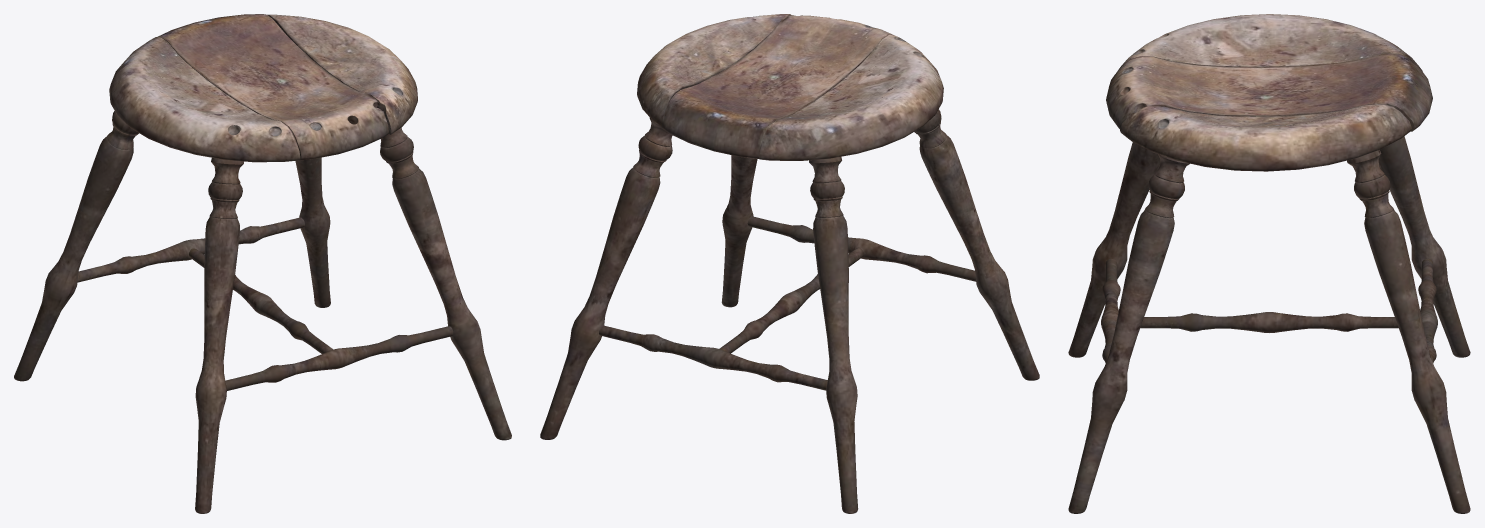
Rendered from wooden_stool_01.gltf.
3 renders of one model, left to right at view 1: azimuth 30°, elevation 25°; view 2: azimuth 150°, elevation 25°; view 3: azimuth 270°, elevation 25°, orthographic. The views are drawn at different scales.
Parts seen in each view (by area): view 1: wooden_stool_01; view 2: wooden_stool_01; view 3: wooden_stool_01.
Boxes of the visible parts, x1,y1,x2,y2 form: wooden_stool_01: (14,14,511,513); wooden_stool_01: (540,14,1039,513); wooden_stool_01: (1068,14,1470,513).
Size of the model in its own units: 0.4254 by 0.4374 by 0.4424.
Materials: 1 (1 with a texture image).
